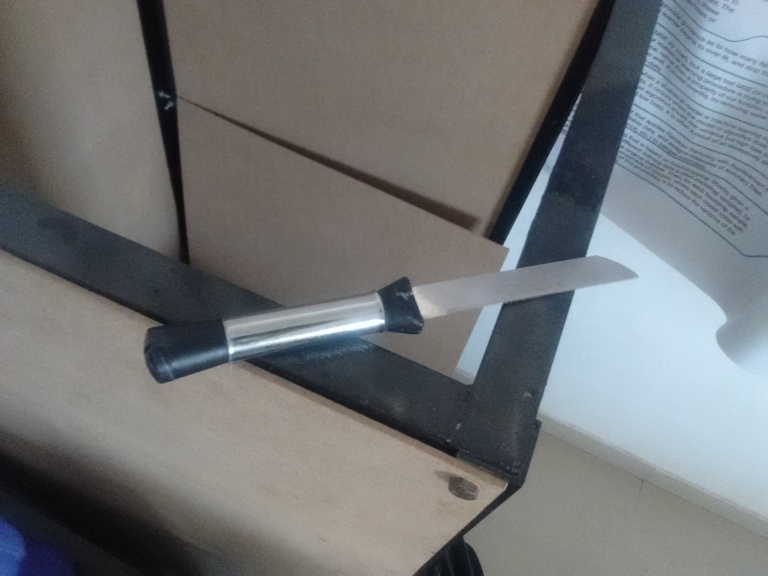knife: (142, 249, 650, 387)
